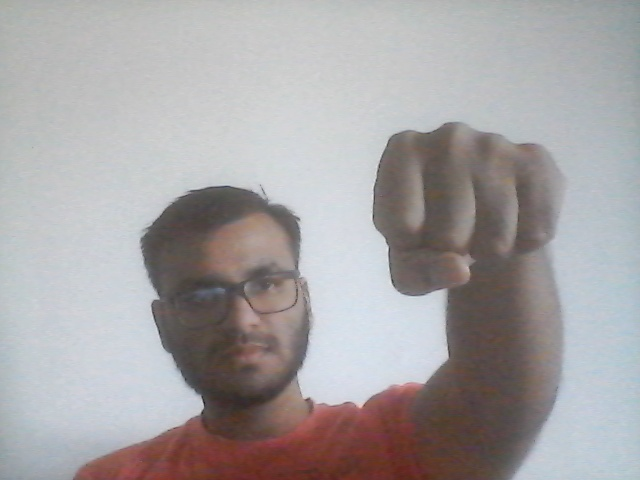Thanks: (369, 119, 577, 298)
